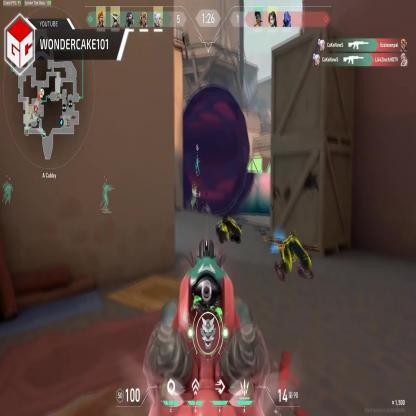enemy: (191, 183, 197, 208)
enemy_head: (193, 183, 197, 190)
